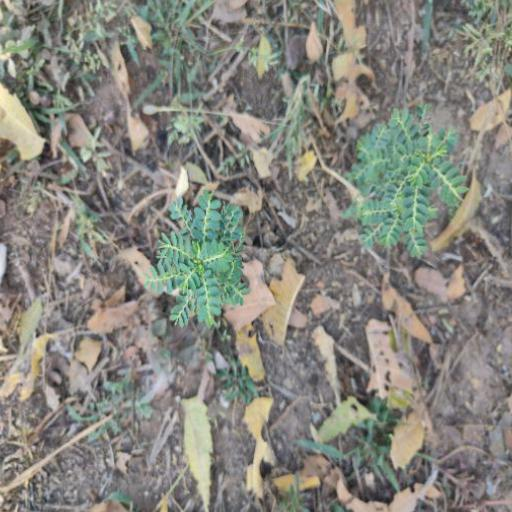weed: (342, 95, 472, 264), (151, 186, 264, 333)
